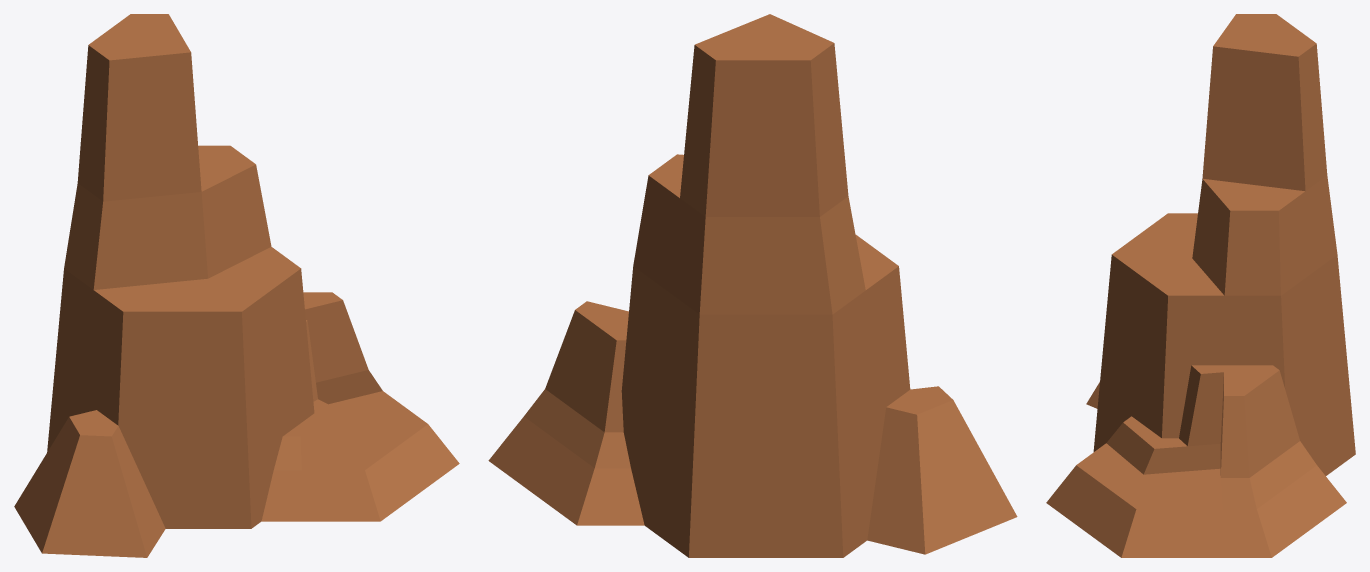
Rendered from formationlarge_rock.glb.
3 views of the same model, side by side, from view 1: azimuth 30°, elevation 25°; view 2: azimuth 150°, elevation 25°; view 3: azimuth 270°, elevation 25° (orthographic). The views are drawn at different scales.
Visible parts, largest first — view 1: formationLarge_rock; view 2: formationLarge_rock; view 3: formationLarge_rock.
Part boxes in pixels (x1=…): formationLarge_rock: x1=14, y1=14, x2=459, y2=557; formationLarge_rock: x1=488, y1=14, x2=1017, y2=557; formationLarge_rock: x1=1046, y1=14, x2=1355, y2=557.
Size of the model in its own units: 13.62 by 13.8 by 9.47.
